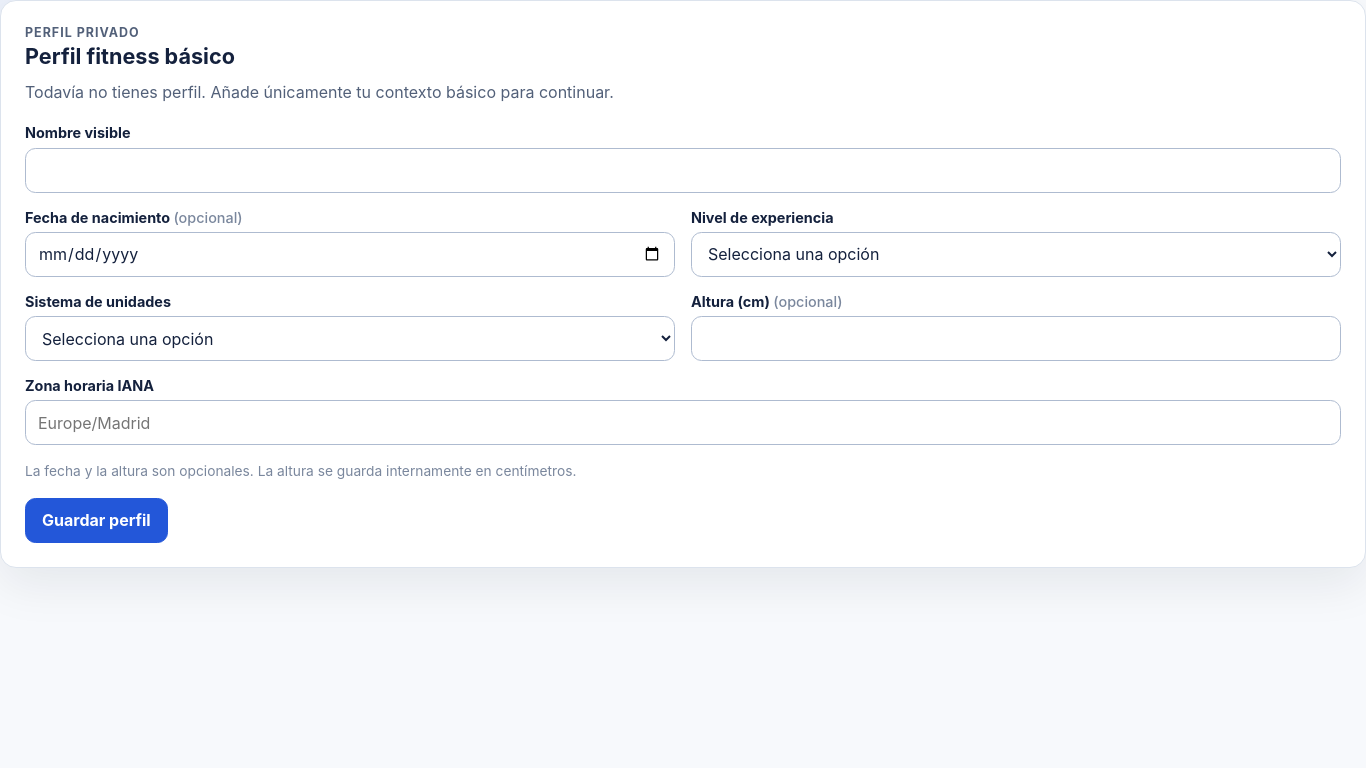
ProfileSection › shows client-side validation messages before sending
This screenshot has width=1366, height=768.
Check: the field labelled "Nombre visible" is shown, box [25,148,1341,193]
Click the button "Guardar perfil": x=96, y=520 [25,498,168,543]
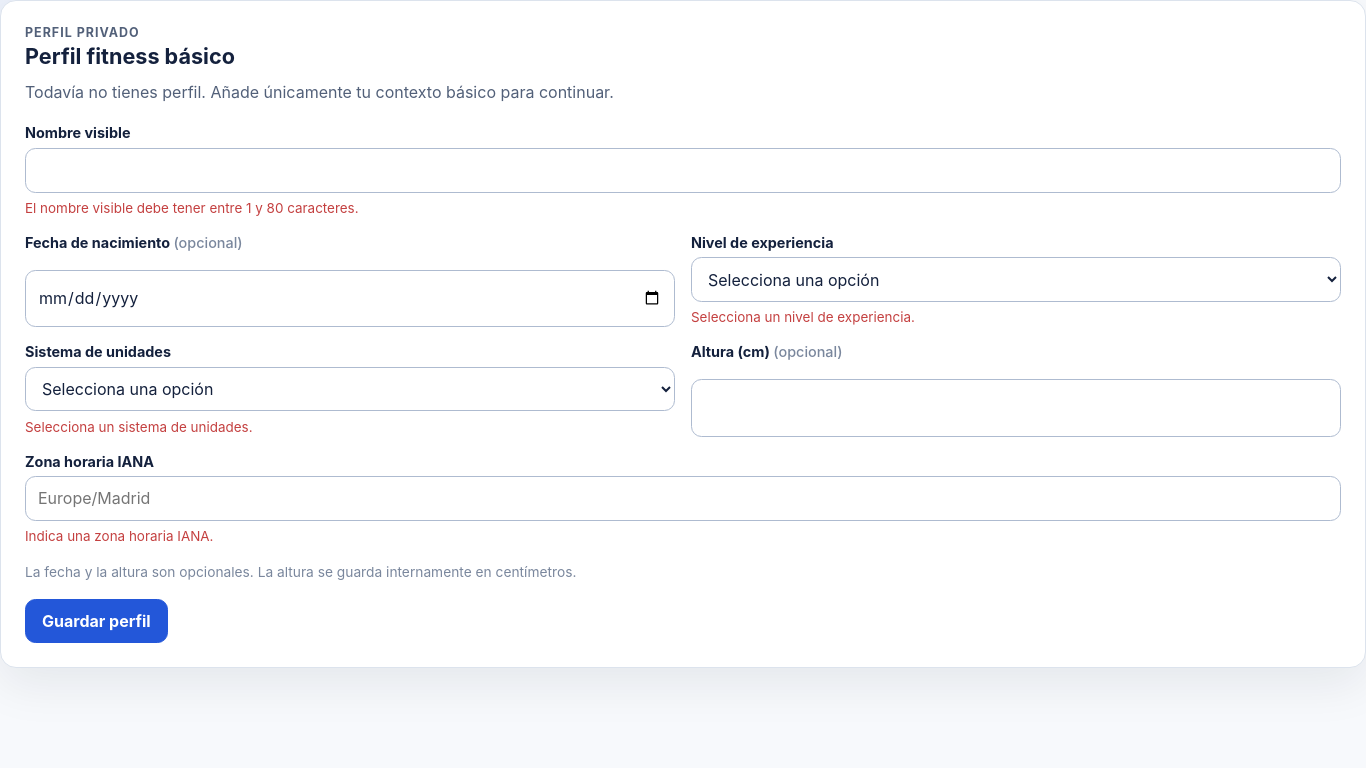
Check: the text "El nombre visible debe tener entre 1 y 80 caracteres." is shown, box [25,200,359,216]
Check: the text "Selecciona un nivel de experiencia." is shown, box [691,309,915,325]
Check: the text "Indica una zona horaria IANA." is shown, box [25,528,214,544]
